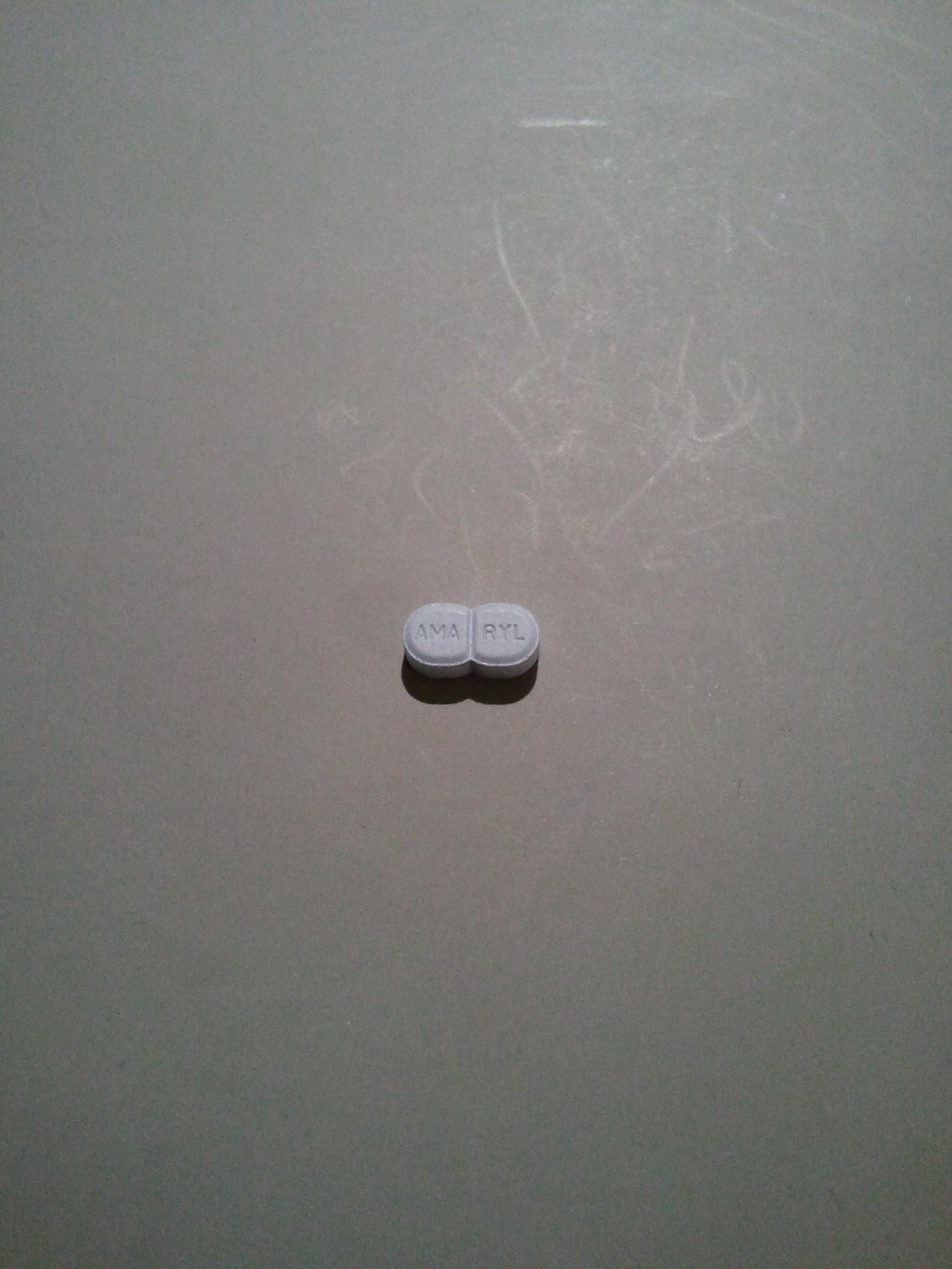Pill: (384, 582, 559, 707)
